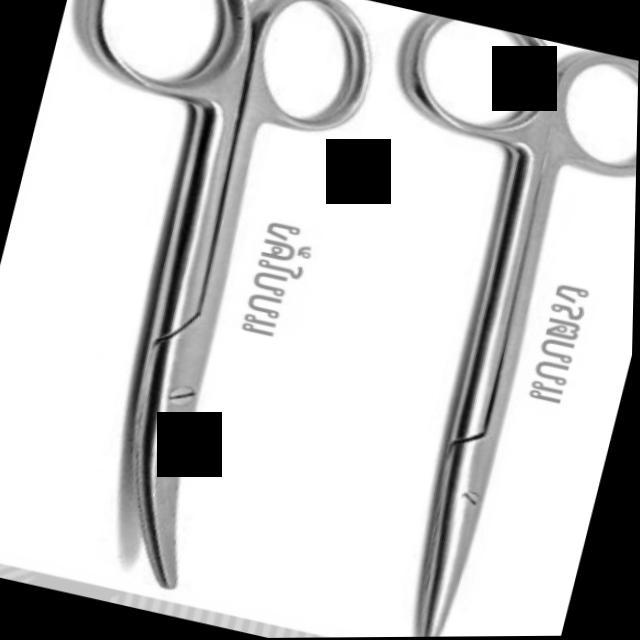Curved Mayo: (0, 0, 392, 610)
Straight Mayo: (260, 9, 640, 638)
